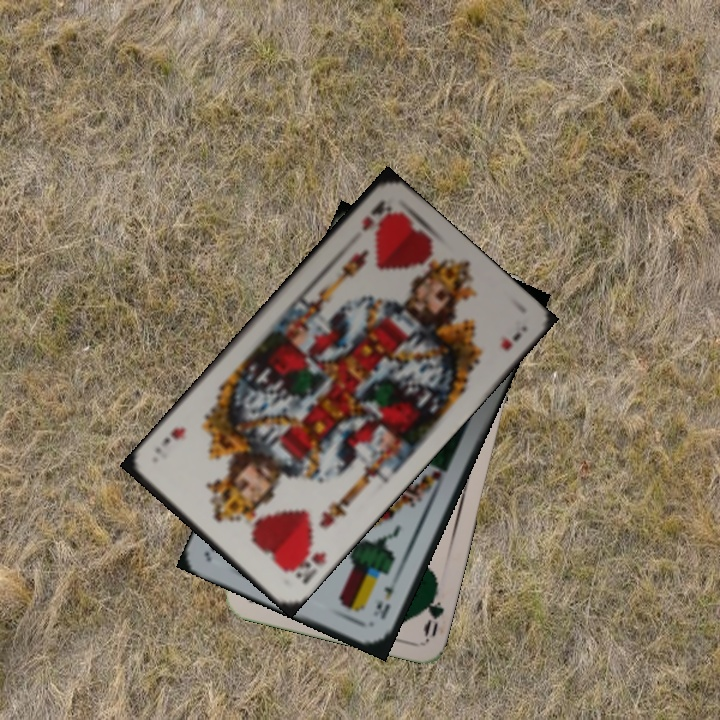EK: (372, 571, 402, 623)
GO: (417, 580, 447, 638)
HK: (283, 538, 329, 587), (358, 196, 394, 233)
